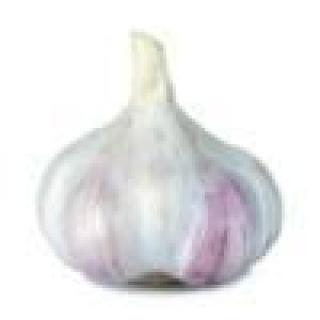Bawang Putih: (36, 43, 289, 292)
